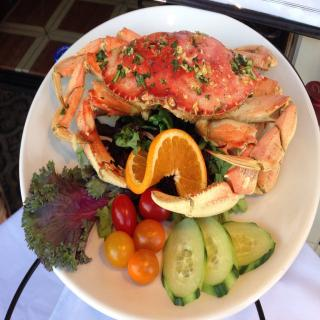tomato: (138, 186, 170, 225), (127, 249, 159, 286), (110, 194, 137, 237), (132, 218, 165, 252), (104, 231, 135, 267)
